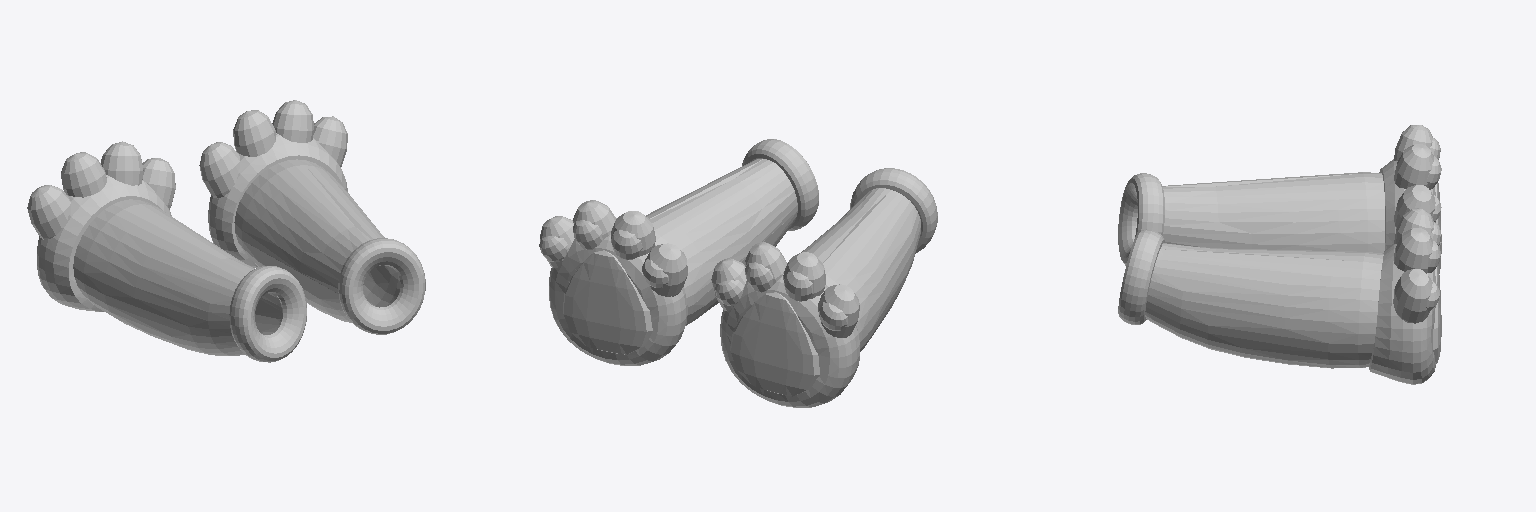
The model's file is bootsfix.merged.obj.
3 views of the same model, side by side, from view 1: azimuth 30°, elevation 25°; view 2: azimuth 150°, elevation 25°; view 3: azimuth 270°, elevation 25° (orthographic).
Visible parts, largest first — view 1: Boots; view 2: Boots; view 3: Boots.
Boxes of the visible parts, box(x1,y1,x2,y2) form: Boots: box(27, 100, 425, 362); Boots: box(539, 139, 937, 407); Boots: box(1118, 125, 1441, 384).
Size of the model in its own units: 52.36 by 24.72 by 46.49.